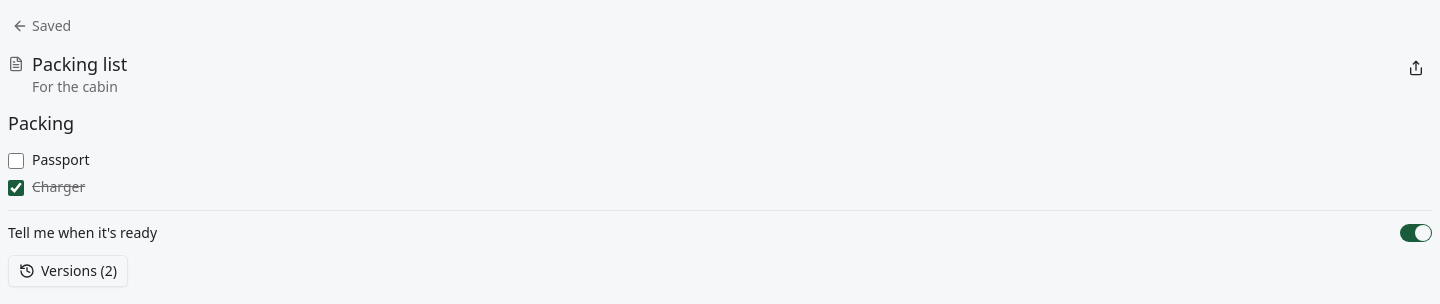
ArtifactView › offers a document as Word and as Markdown, and Share to its owner
Click the button named "Share and download".
click(1416, 68)  # box [1400,52,1432,84]
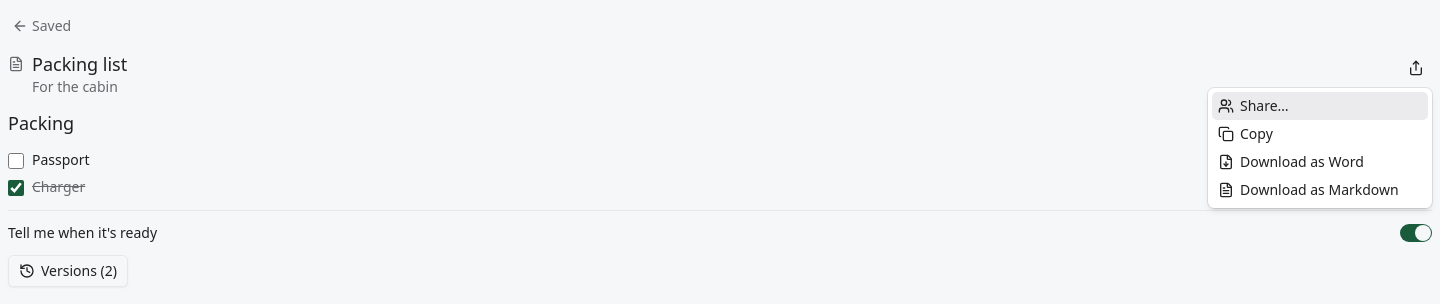
Now the menu is shown, box [1208,88,1432,208]
